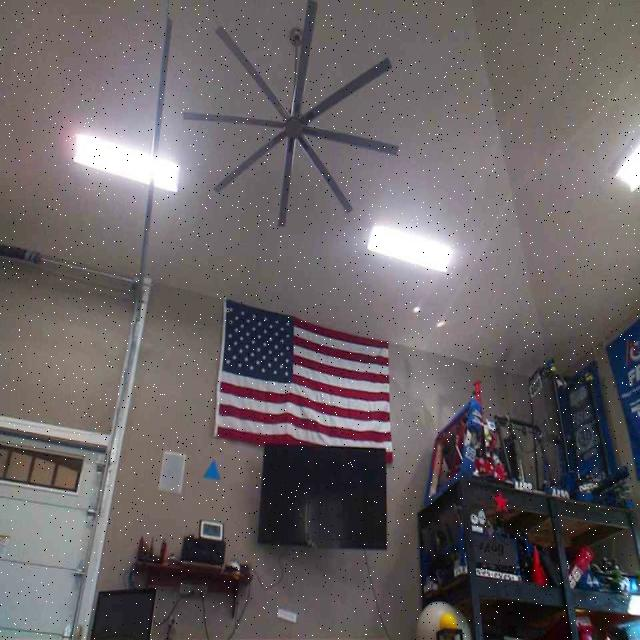star_red: (492, 491, 506, 511)
triangle_blue: (201, 460, 221, 480)
